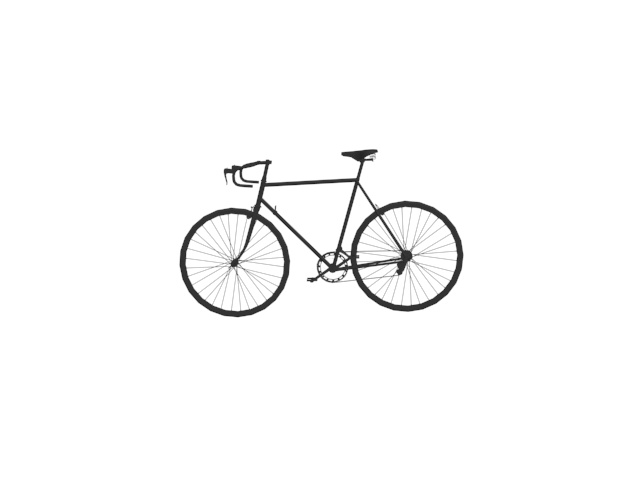bike: (177, 145, 464, 320)
